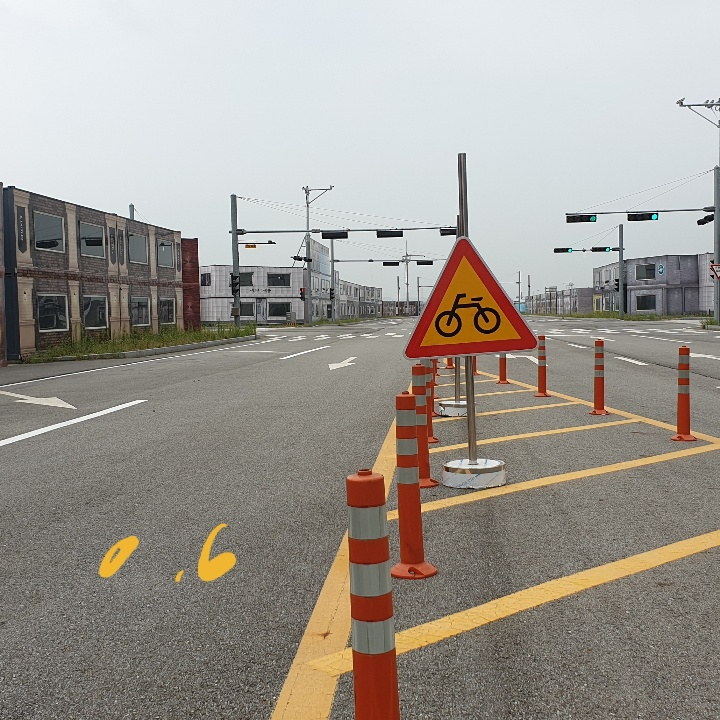bicycle: (402, 236, 540, 365)
